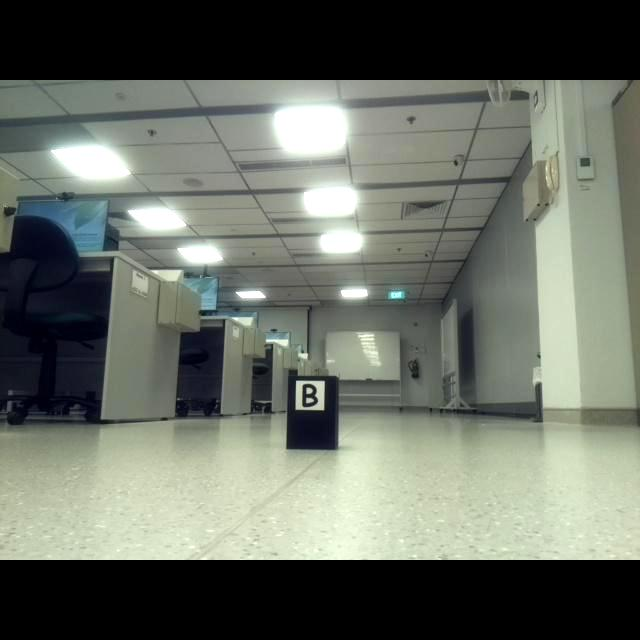B: (302, 383, 318, 408)
